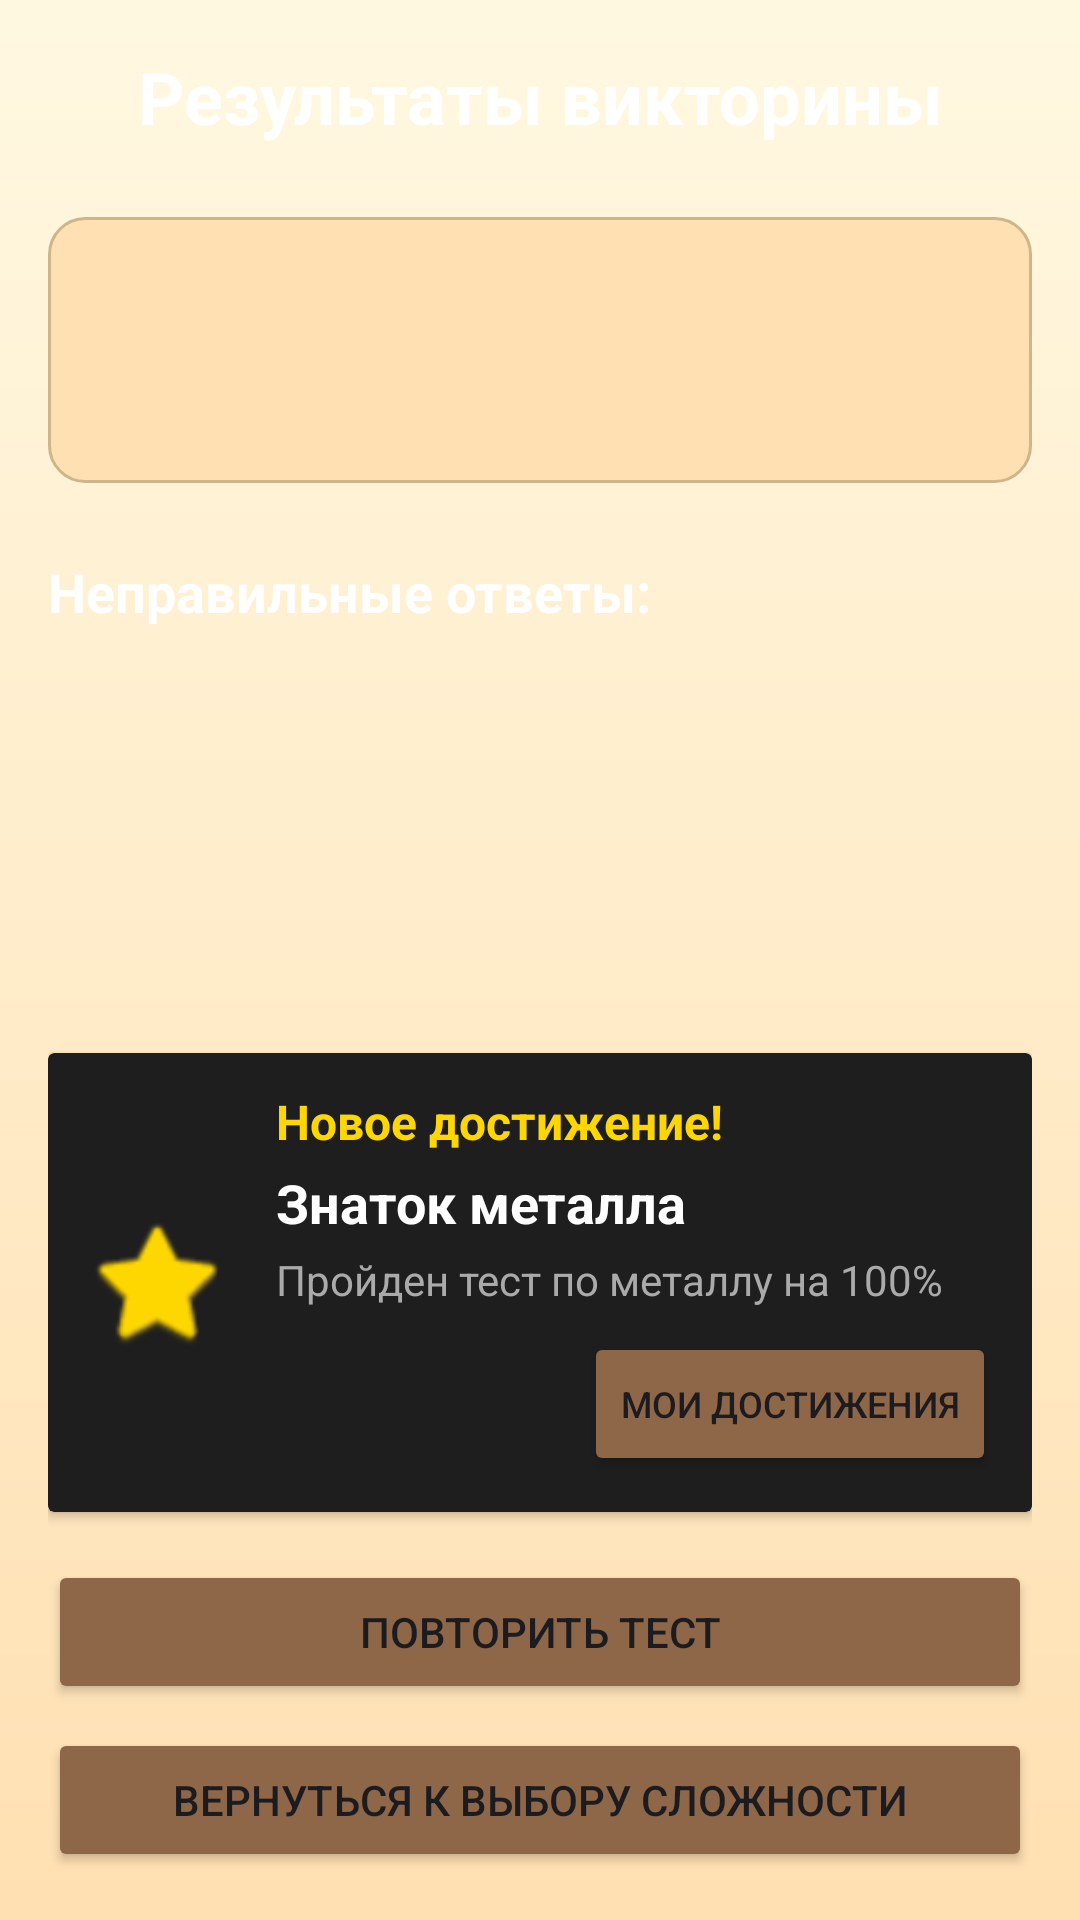

Point at icon controls on the screen. Image size 1080px x 1920px, points as point (x, y).
star on: point (157, 1283)
